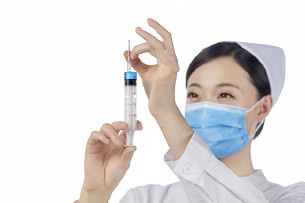Mask: (180, 80, 255, 154)
